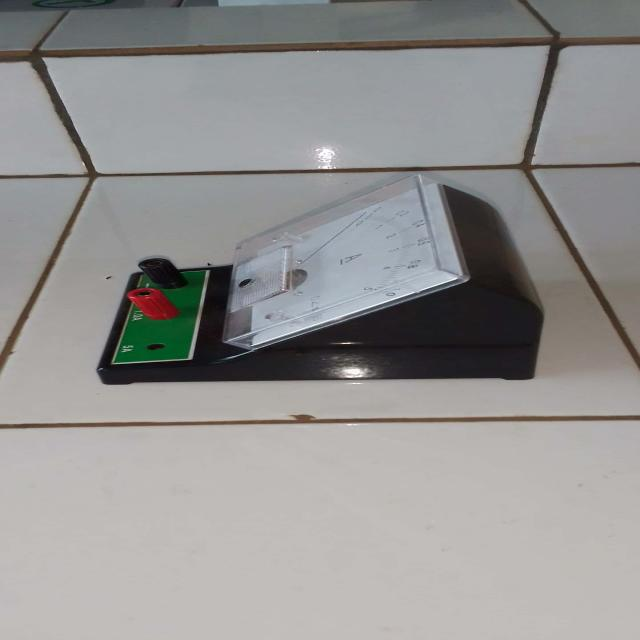Ammeter Analog: (75, 176, 577, 392)
